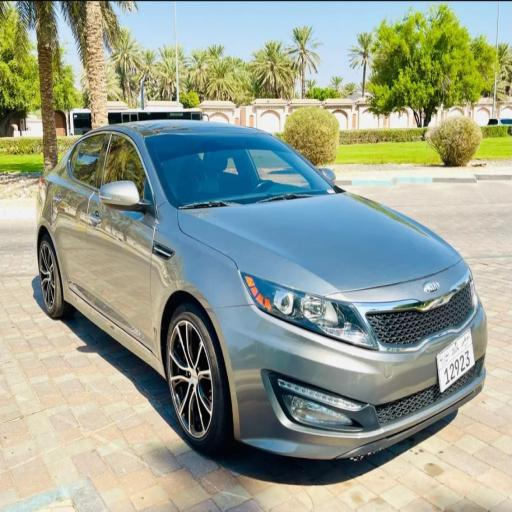license-plates: (436, 329, 475, 392)
